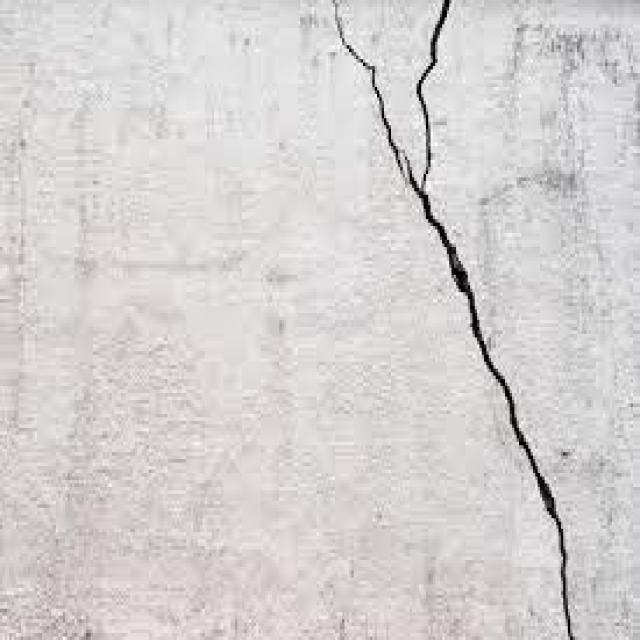Crack: (333, 0, 572, 637)
